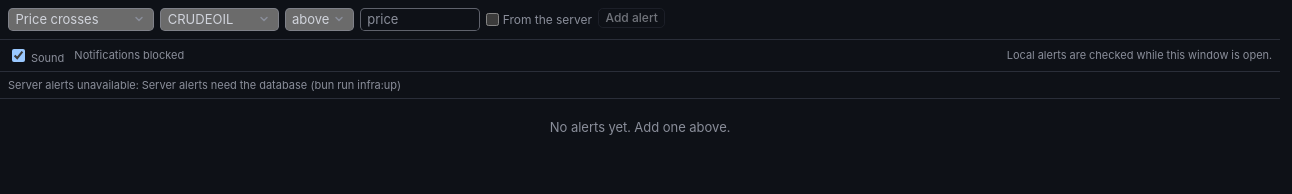
Test case: the database being down is said plainly and the form keeps its values
Expected: the text "Server alerts unavailable: Server alerts need the database" is shown, [8,78,401,92]
Type "9500" into the field named "Price level". click: [420, 19]
box: [360,8,480,31]
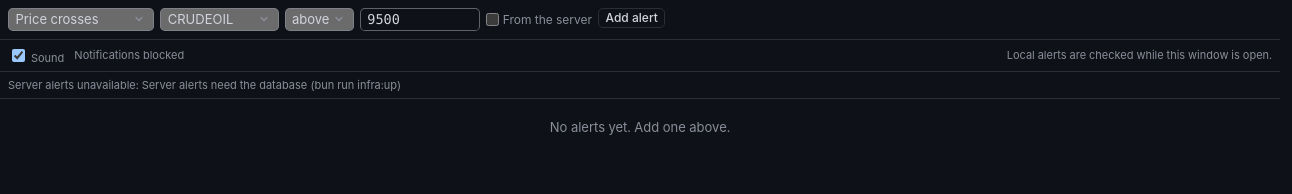
Click the checkbox labelled "From the server". click: [492, 19]
box: [486,13,499,26]
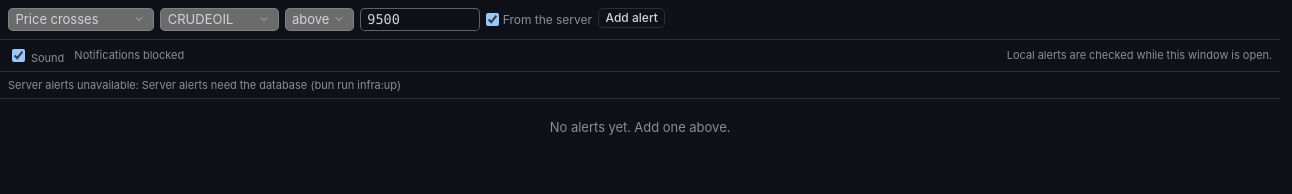
Click the button "Add alert". click: [632, 18]
box: [598,8,665,28]
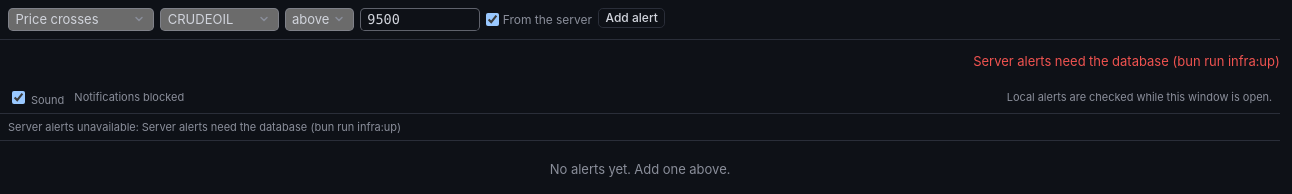
Now the text "Server alerts need the database (bun run infra:up)" is shown, box [973,53,1280,69]
